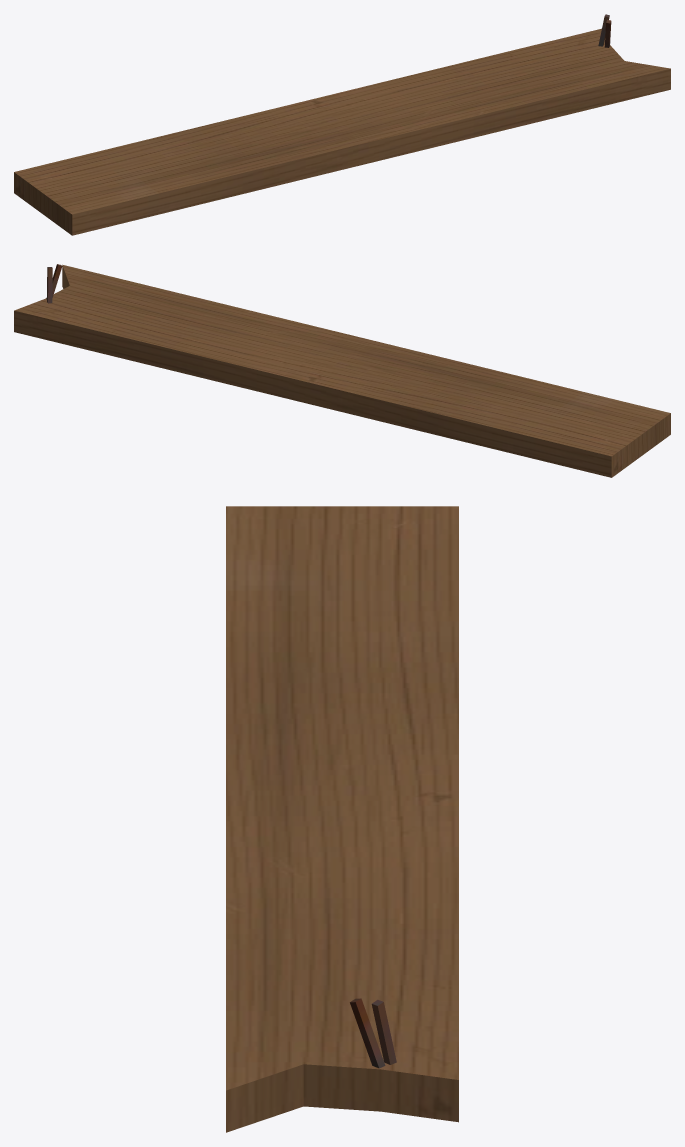
File: Scrap_Board.glb
3 renders of one model, top to bottom at view 1: azimuth 30°, elevation 25°; view 2: azimuth 150°, elevation 25°; view 3: azimuth 270°, elevation 25°, orthographic. The views are drawn at different scales.
Parts seen in each view (by area): view 1: Scrap_Board; view 2: Scrap_Board; view 3: Scrap_Board.
Boxes of the visible parts, x1,y1,x2,y2 form: Scrap_Board: (14,14,670,235); Scrap_Board: (14,264,670,477); Scrap_Board: (226,506,458,1132).
Bounding box in the file's own units: 0.8909 × 0.0752 × 0.15.
Materials: 2 (2 with a texture image).
